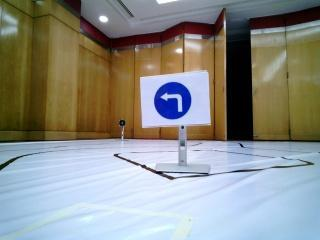left: (142, 74, 209, 125)
